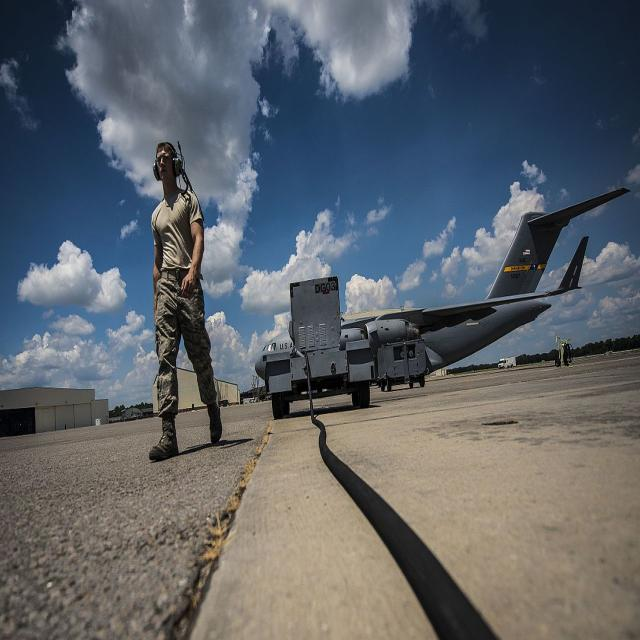MIL_Plane: (254, 183, 631, 382)
